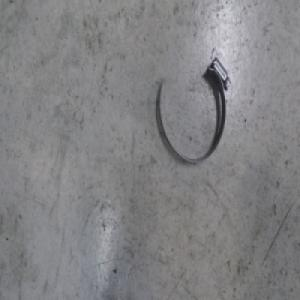AdjustableClamp: (157, 54, 230, 167)
